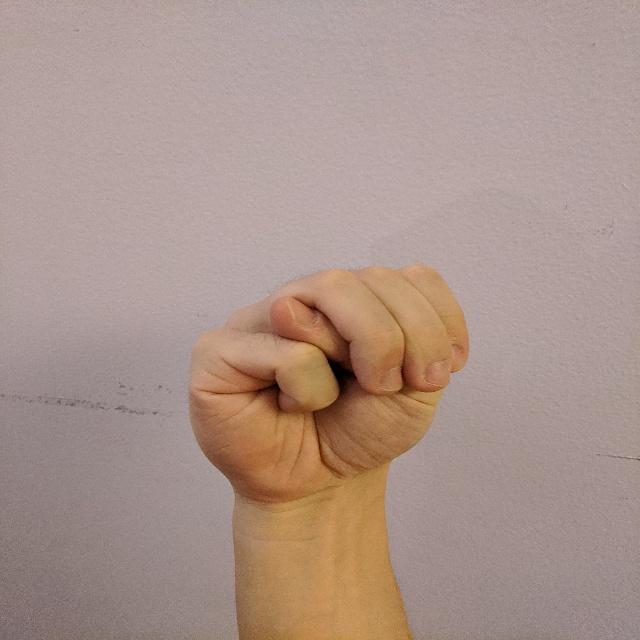M: (177, 255, 479, 502)
